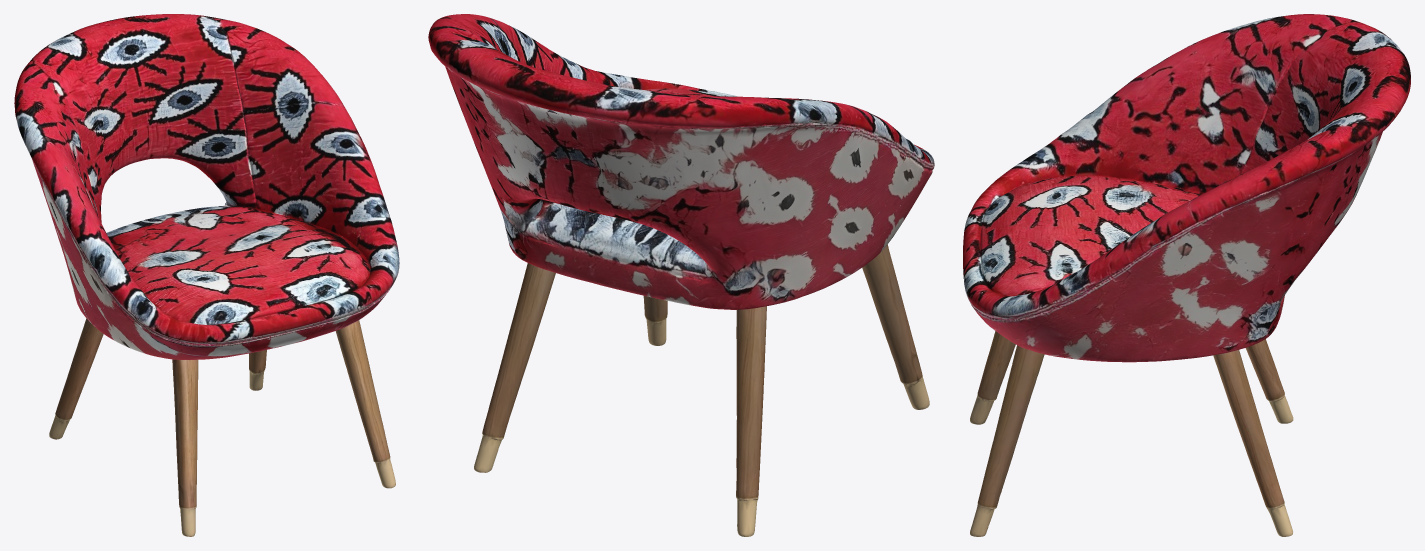
3 renders of one model, left to right at view 1: azimuth 30°, elevation 25°; view 2: azimuth 150°, elevation 25°; view 3: azimuth 270°, elevation 25°, orthographic. The views are drawn at different scales.
Parts seen in each view (by area): view 1: model; view 2: model; view 3: model.
Part boxes in pixels (x1,y1,x2,y2): model: [14, 14, 399, 536]; model: [428, 14, 934, 536]; model: [963, 14, 1410, 536].
Size of the model in its own units: 0.6333 by 0.72 by 0.7095.
Materials: 1 (1 with a texture image).
